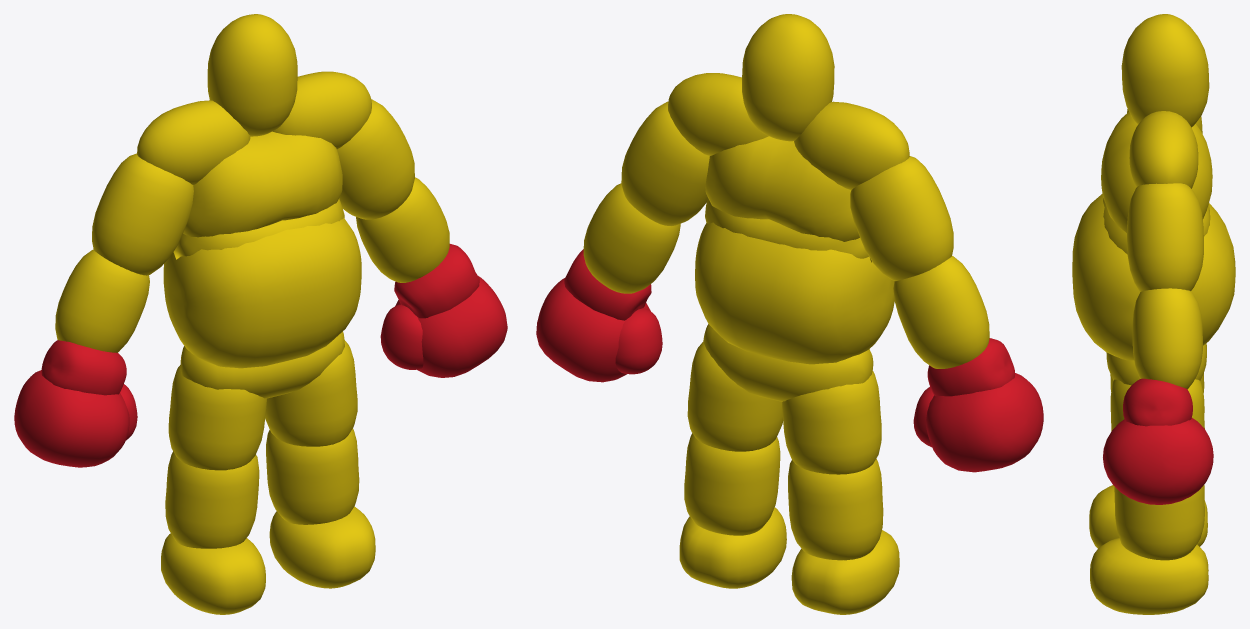
Rendered from character_glovesup.fbx.
3 views of the same model, side by side, from view 1: azimuth 30°, elevation 25°; view 2: azimuth 150°, elevation 25°; view 3: azimuth 270°, elevation 25° (orthographic). The views are drawn at different scales.
Visible parts, largest first — view 1: character; view 2: character; view 3: character.
Part boxes in pixels (x1,y1,x2,y2): character: [14, 14, 507, 614]; character: [536, 14, 1043, 614]; character: [1072, 14, 1235, 614].
Size of the model in its own units: 344 by 394 by 104.
